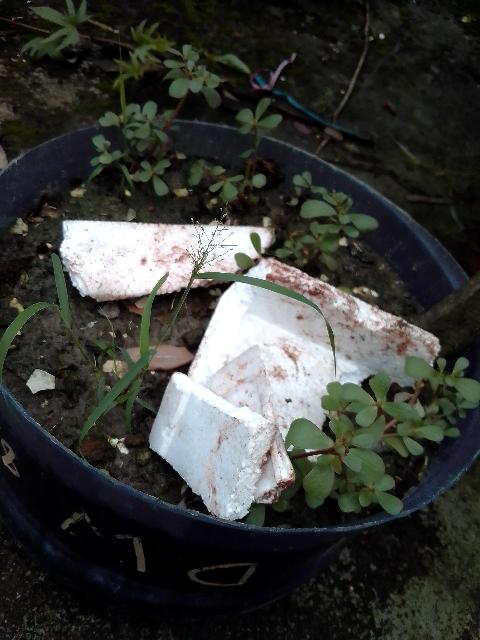cocksheet: (123, 218, 422, 529), (65, 198, 272, 294)
